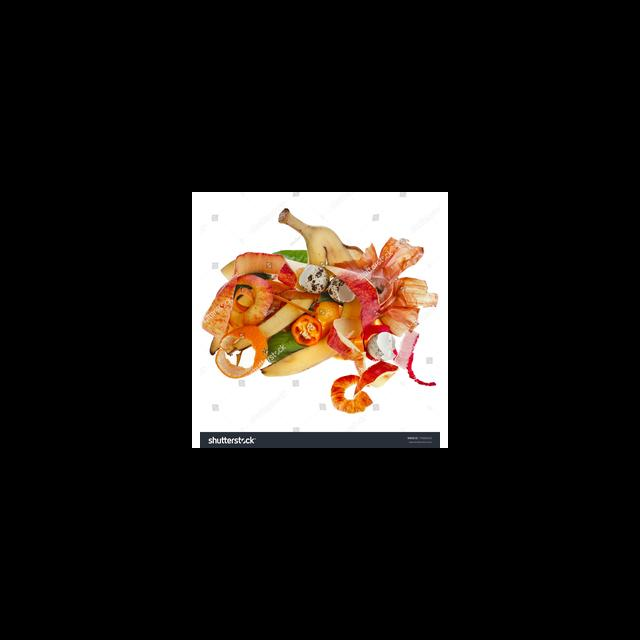food_waste: (234, 262, 407, 356), (282, 202, 366, 281), (204, 279, 275, 332), (207, 318, 259, 385), (314, 363, 377, 416), (291, 311, 324, 352), (292, 261, 329, 293), (367, 331, 397, 364), (330, 272, 359, 302), (306, 296, 337, 320)
